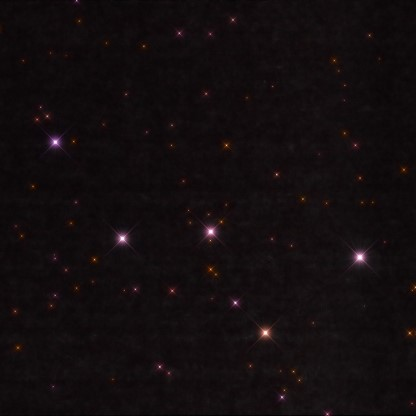Cassiopeia: (228, 293, 276, 348), (340, 235, 380, 273), (188, 208, 232, 241), (39, 128, 76, 160), (109, 226, 140, 254)
